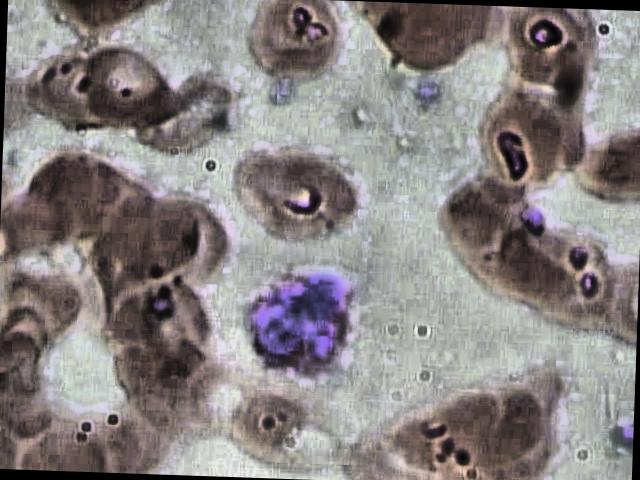Platelets: (406, 75, 446, 117), (266, 72, 306, 114)
RBC: (230, 140, 361, 244), (472, 86, 576, 198), (19, 145, 122, 249), (137, 72, 251, 160), (242, 0, 356, 85), (400, 386, 496, 473), (453, 379, 549, 466), (224, 374, 320, 461), (84, 45, 180, 131), (104, 196, 200, 282), (500, 8, 600, 88), (384, 3, 490, 78)
WBC: (235, 260, 361, 390)
